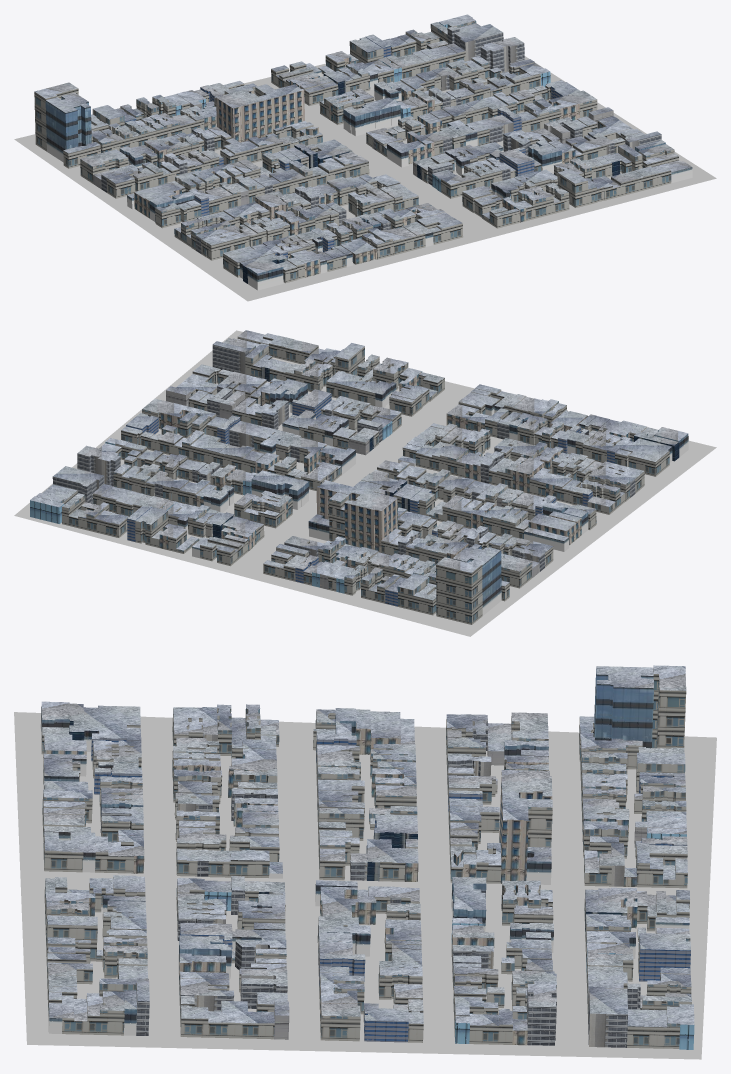
The model's file is 2_manhattan.fbx.
3 renders of one model, top to bottom at view 1: azimuth 30°, elevation 25°; view 2: azimuth 150°, elevation 25°; view 3: azimuth 270°, elevation 25°, orthographic. The views are drawn at different scales.
Parts seen in each view (by area): view 1: Areas:building, EXPORT_GOOGLE_SAT_WM; view 2: Areas:building, EXPORT_GOOGLE_SAT_WM; view 3: Areas:building, EXPORT_GOOGLE_SAT_WM.
Boxes of the visible parts, box(x1,y1,x2,y2) form: Areas:building: box(34, 14, 692, 290); EXPORT_GOOGLE_SAT_WM: box(14, 56, 716, 301); Areas:building: box(30, 330, 688, 624); EXPORT_GOOGLE_SAT_WM: box(14, 330, 716, 636); Areas:building: box(40, 665, 694, 1049); EXPORT_GOOGLE_SAT_WM: box(14, 712, 716, 1059).
Size of the model in its own units: 59260 by 6477 by 51926.
